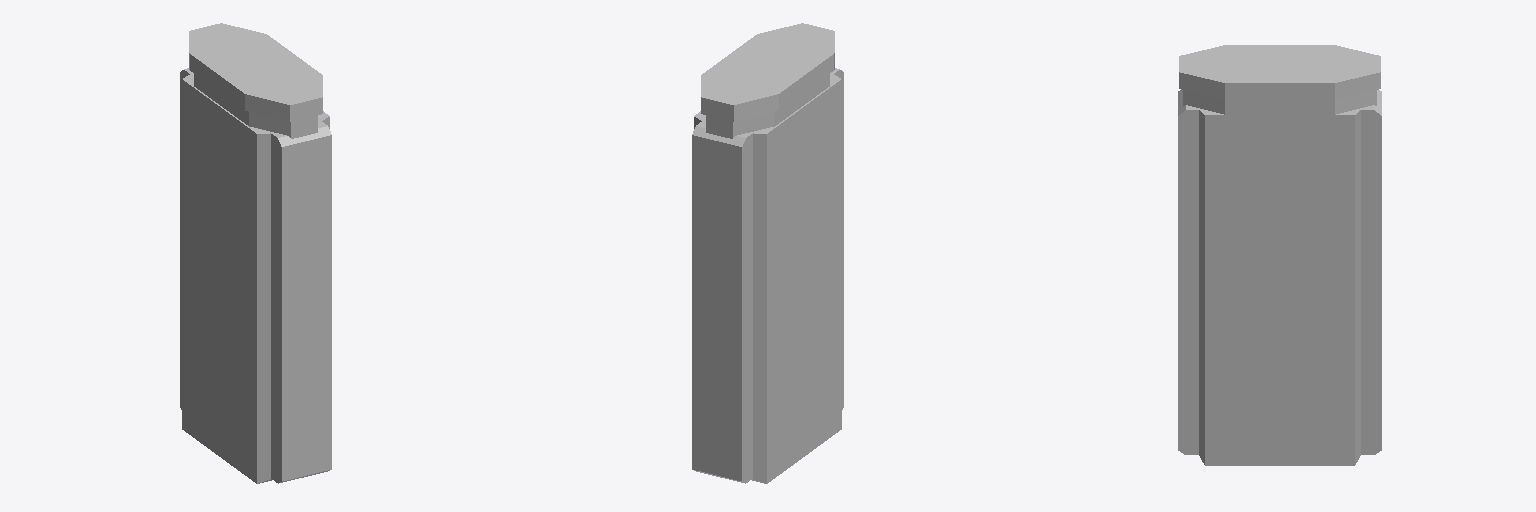
Rendered from mag1.obj.
3 renders of one model, left to right at view 1: azimuth 30°, elevation 25°; view 2: azimuth 150°, elevation 25°; view 3: azimuth 270°, elevation 25°, orthographic.
Parts seen in each view (by area): view 1: mag1; view 2: mag1; view 3: mag1.
Part boxes in pixels (left/top/right/bottom): mag1: left=180, top=23, right=331, bottom=483; mag1: left=692, top=23, right=843, bottom=483; mag1: left=1178, top=45, right=1381, bottom=465.
Bounding box in the file's own units: 2.73 × 12.89 × 6.2.